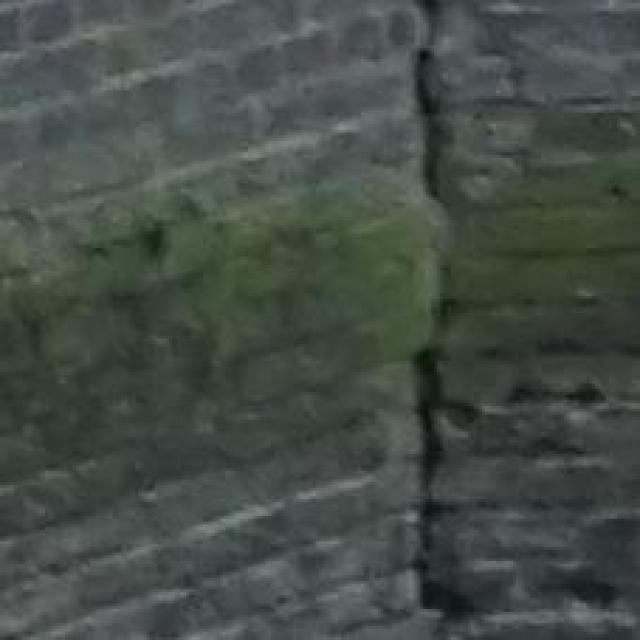Crack: (288, 0, 600, 612)
